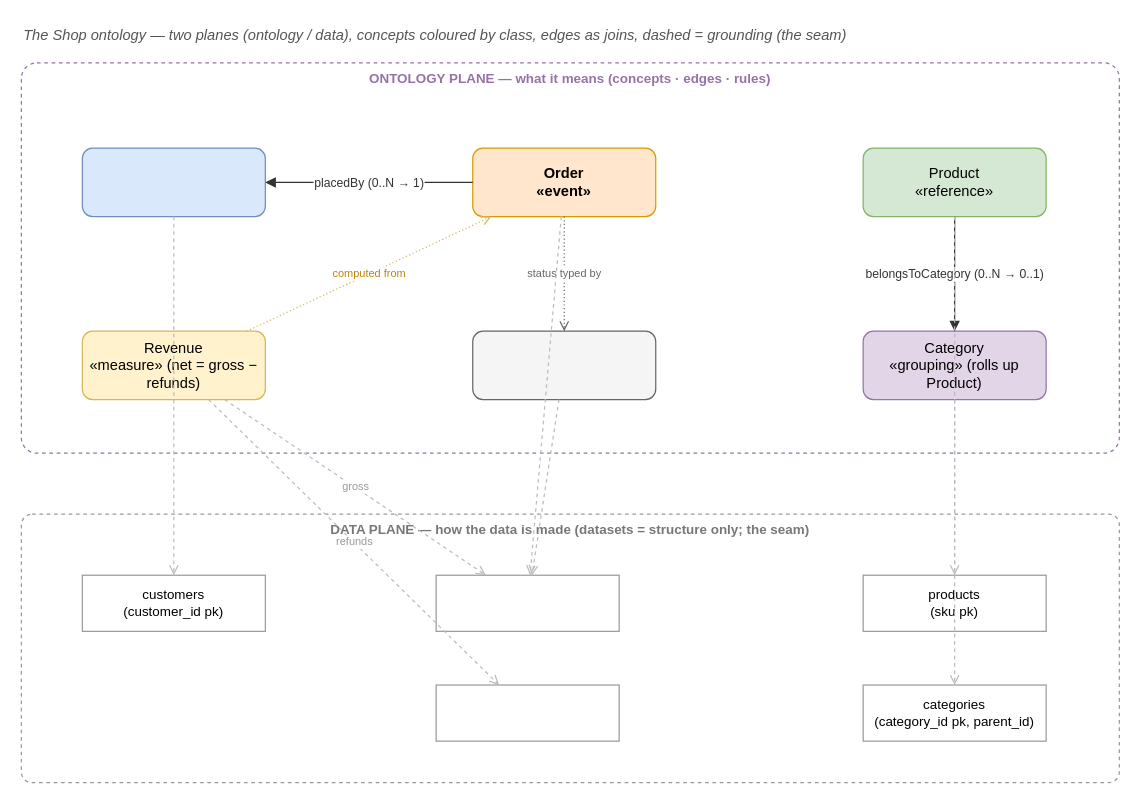
Image size: 1141x804. Some labels were removed from this diagram. The centre of each missing label's shape, as x and y in pixels:
Customer «entity»: (173,182)
orders (order_id pk): (527,602)
OrderStatus «enumeration» (closed): (564,365)
refunds (refund_id pk → order_id): (527,712)
